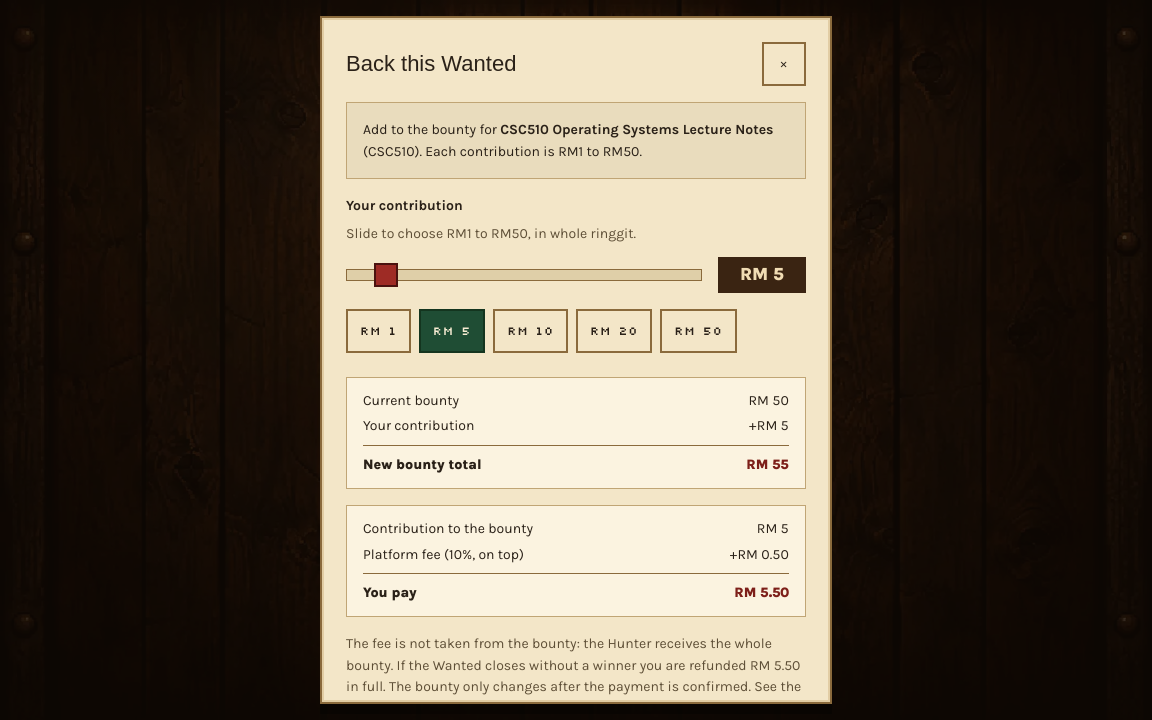
BackWantedModal › shows the platform fee on top and the total charged
Set the slider labelled "Your contribution" to "20": (486, 275) [346,253,702,297]
(page scrolled)
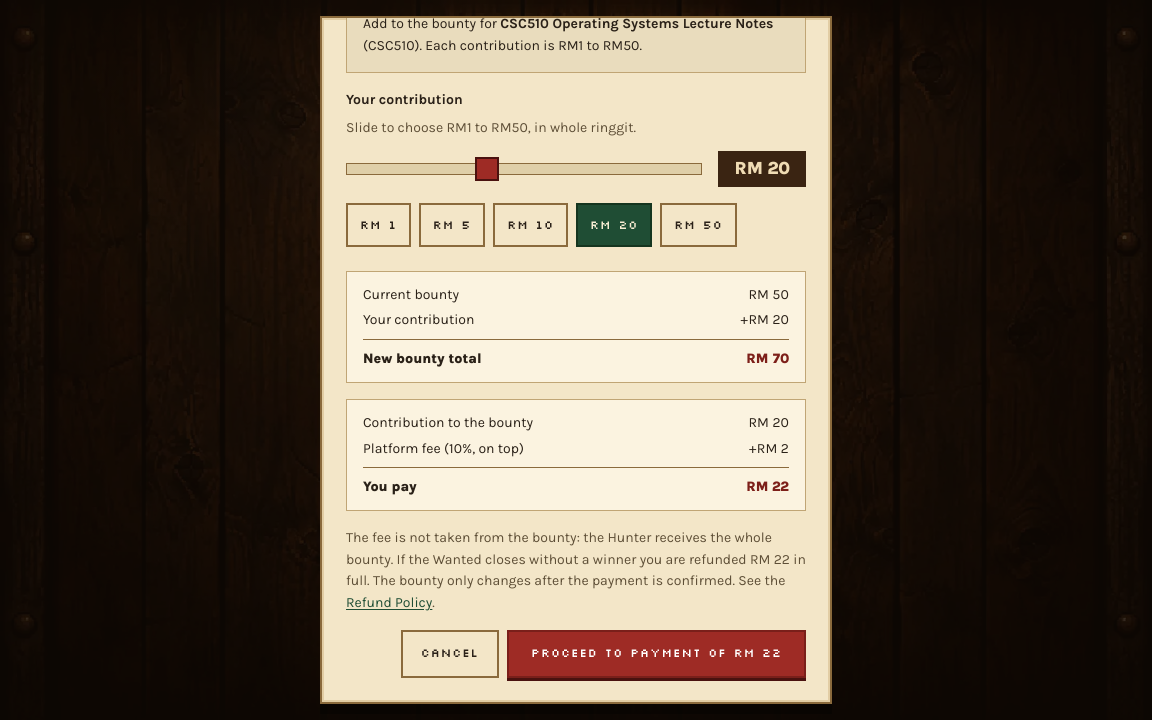
Check: the text "RM 20" in the row of "Contribution to the bounty" is shown, box [748,414,789,431]
Check: the text "+RM 2" is shown, box [748,438,789,459]
Check: the text "RM 22" is shown, box [746,476,789,498]
